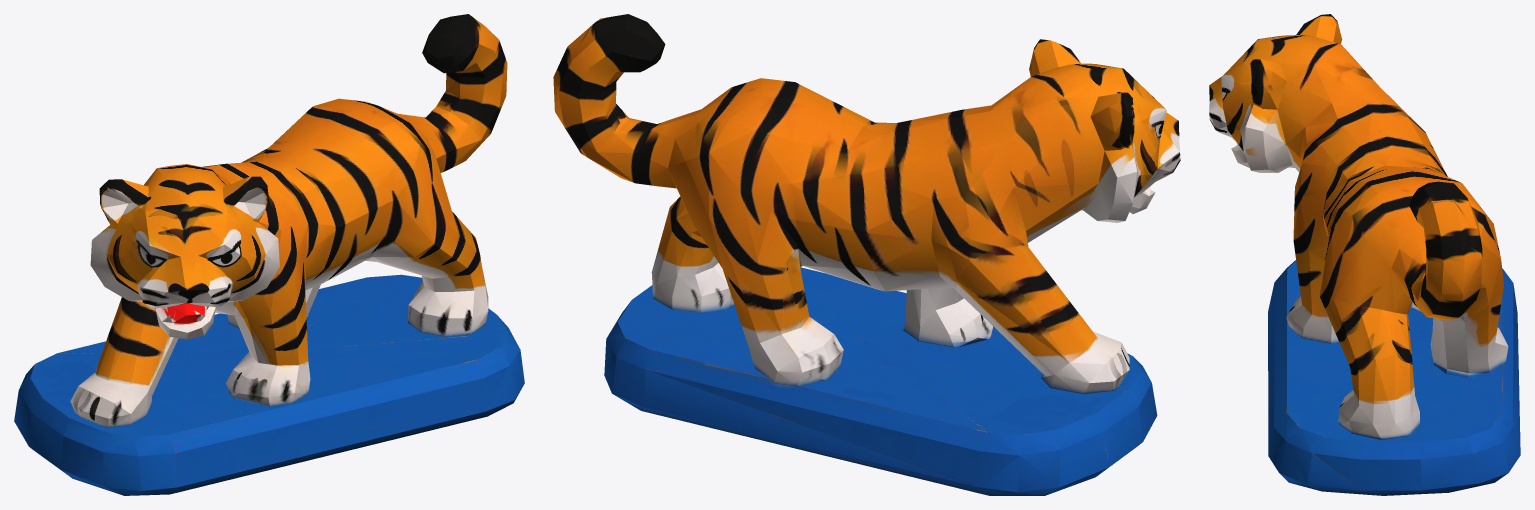
The model's file is tiger.glb.
3 renders of one model, left to right at view 1: azimuth 30°, elevation 25°; view 2: azimuth 150°, elevation 25°; view 3: azimuth 270°, elevation 25°, orthographic. The views are drawn at different scales.
Parts seen in each view (by area): view 1: mesh_000; view 2: mesh_000; view 3: mesh_000.
Boxes of the visible parts, left/top/right/bottom form: mesh_000: left=14, top=14, right=524, bottom=495; mesh_000: left=553, top=14, right=1180, bottom=495; mesh_000: left=1209, top=14, right=1520, bottom=495.
Size of the model in its own units: 0.957 by 0.6055 by 0.5488.
1 material, 1 textured.
